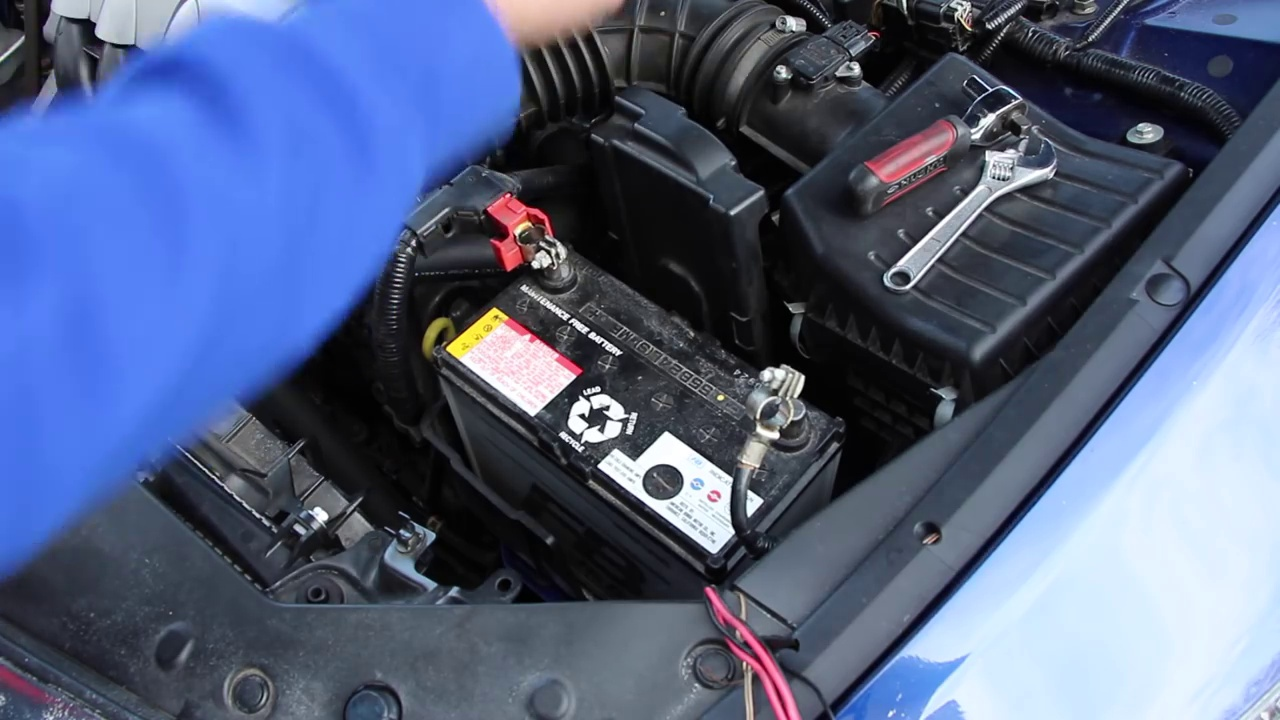battery: (439, 223, 847, 586)
neg_disconnected: (729, 347, 821, 511)
pos_connected: (447, 172, 583, 313)
